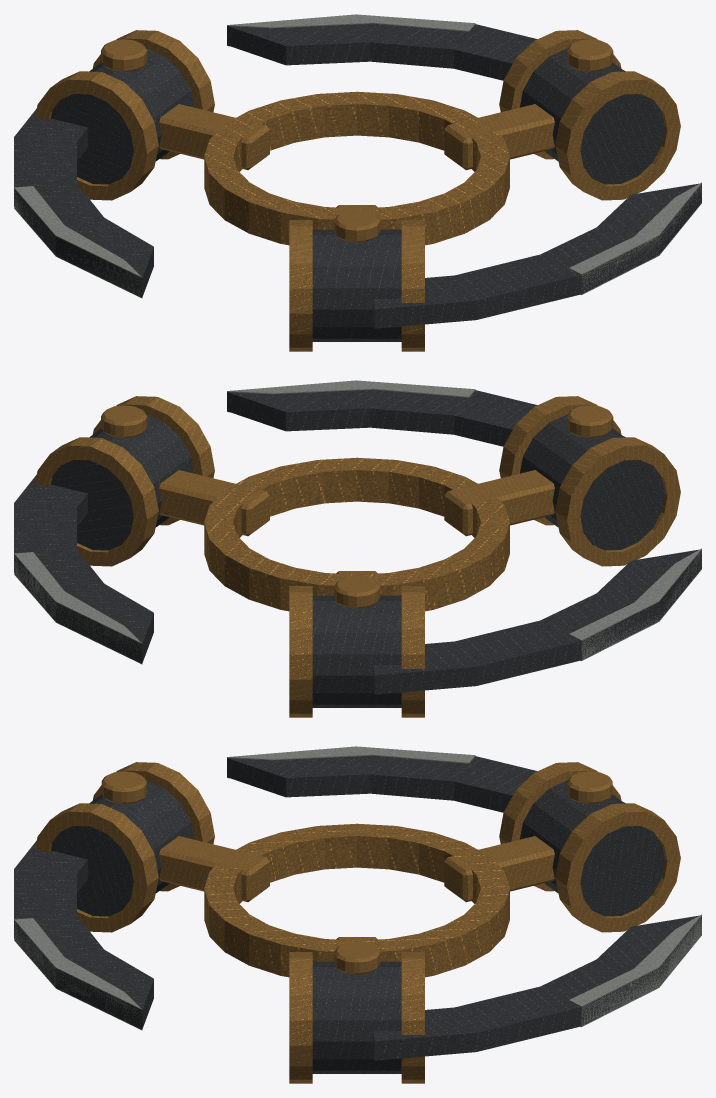
File: chronal-ring-ready.glb
3 renders of one model, top to bottom at view 1: azimuth 30°, elevation 25°; view 2: azimuth 150°, elevation 25°; view 3: azimuth 270°, elevation 25°, orthographic.
Parts seen in each view (by area): view 1: Inner open throwing ring, Sweeping ring blade.002, Sweeping ring blade, Sweeping ring blade.001, Tangential dark pod, Tangential dark pod.002, Tangential dark pod.001, Pod brass end collar, Pod brass end collar.003, Radial ring yoke, Radial ring yoke.001, Ring honed silver rim.001 (+9 smaller); view 2: Inner open throwing ring, Sweeping ring blade.001, Sweeping ring blade.002, Sweeping ring blade, Tangential dark pod.002, Tangential dark pod.001, Tangential dark pod, Pod brass end collar.004, Pod brass end collar.001, Radial ring yoke.002, Ring honed silver rim, Radial ring yoke (+9 smaller); view 3: Inner open throwing ring, Sweeping ring blade, Sweeping ring blade.001, Sweeping ring blade.002, Tangential dark pod.001, Tangential dark pod, Tangential dark pod.002, Pod brass end collar.002, Pod brass end collar.005, Ring honed silver rim, Radial ring yoke.002, Ring honed silver rim.002 (+9 smaller).
Part boxes in pixels (x1,y1,x2,y2): Inner open throwing ring: [204, 91, 509, 245]; Sweeping ring blade.002: [373, 183, 701, 328]; Sweeping ring blade: [227, 23, 625, 80]; Sweeping ring blade.001: [14, 109, 153, 297]; Tangential dark pod: [520, 48, 664, 184]; Tangential dark pod.002: [312, 229, 401, 341]; Tangential dark pod.001: [51, 48, 194, 184]; Pod brass end collar: [555, 71, 680, 200]; Pod brass end collar.003: [35, 71, 158, 200]; Radial ring yoke: [444, 104, 554, 170]; Radial ring yoke.001: [159, 104, 269, 170]; Ring honed silver rim.001: [14, 186, 142, 298]; Inner open throwing ring: [204, 457, 509, 611]; Sweeping ring blade.001: [373, 549, 701, 694]; Sweeping ring blade.002: [227, 389, 625, 446]; Sweeping ring blade: [14, 475, 153, 663]; Tangential dark pod.002: [520, 414, 664, 550]; Tangential dark pod.001: [312, 595, 401, 707]; Tangential dark pod: [51, 414, 194, 550]; Pod brass end collar.004: [555, 437, 680, 566]; Pod brass end collar.001: [35, 437, 158, 566]; Radial ring yoke.002: [444, 470, 554, 536]; Ring honed silver rim: [14, 552, 142, 664]; Radial ring yoke: [159, 470, 269, 536]; Inner open throwing ring: [204, 823, 509, 977]; Sweeping ring blade: [373, 915, 701, 1060]; Sweeping ring blade.001: [227, 755, 625, 812]; Sweeping ring blade.002: [14, 841, 153, 1029]; Tangential dark pod.001: [520, 780, 664, 916]; Tangential dark pod: [312, 961, 401, 1073]; Tangential dark pod.002: [51, 780, 194, 916]; Pod brass end collar.002: [555, 803, 680, 932]; Pod brass end collar.005: [35, 803, 158, 932]; Ring honed silver rim: [569, 914, 701, 1026]; Radial ring yoke.002: [159, 836, 269, 902]; Ring honed silver rim.002: [14, 918, 142, 1030].
Size of the model in its own units: 0.3598 by 0.0725 by 0.3555.
Materials: 3 (3 with a texture image).
